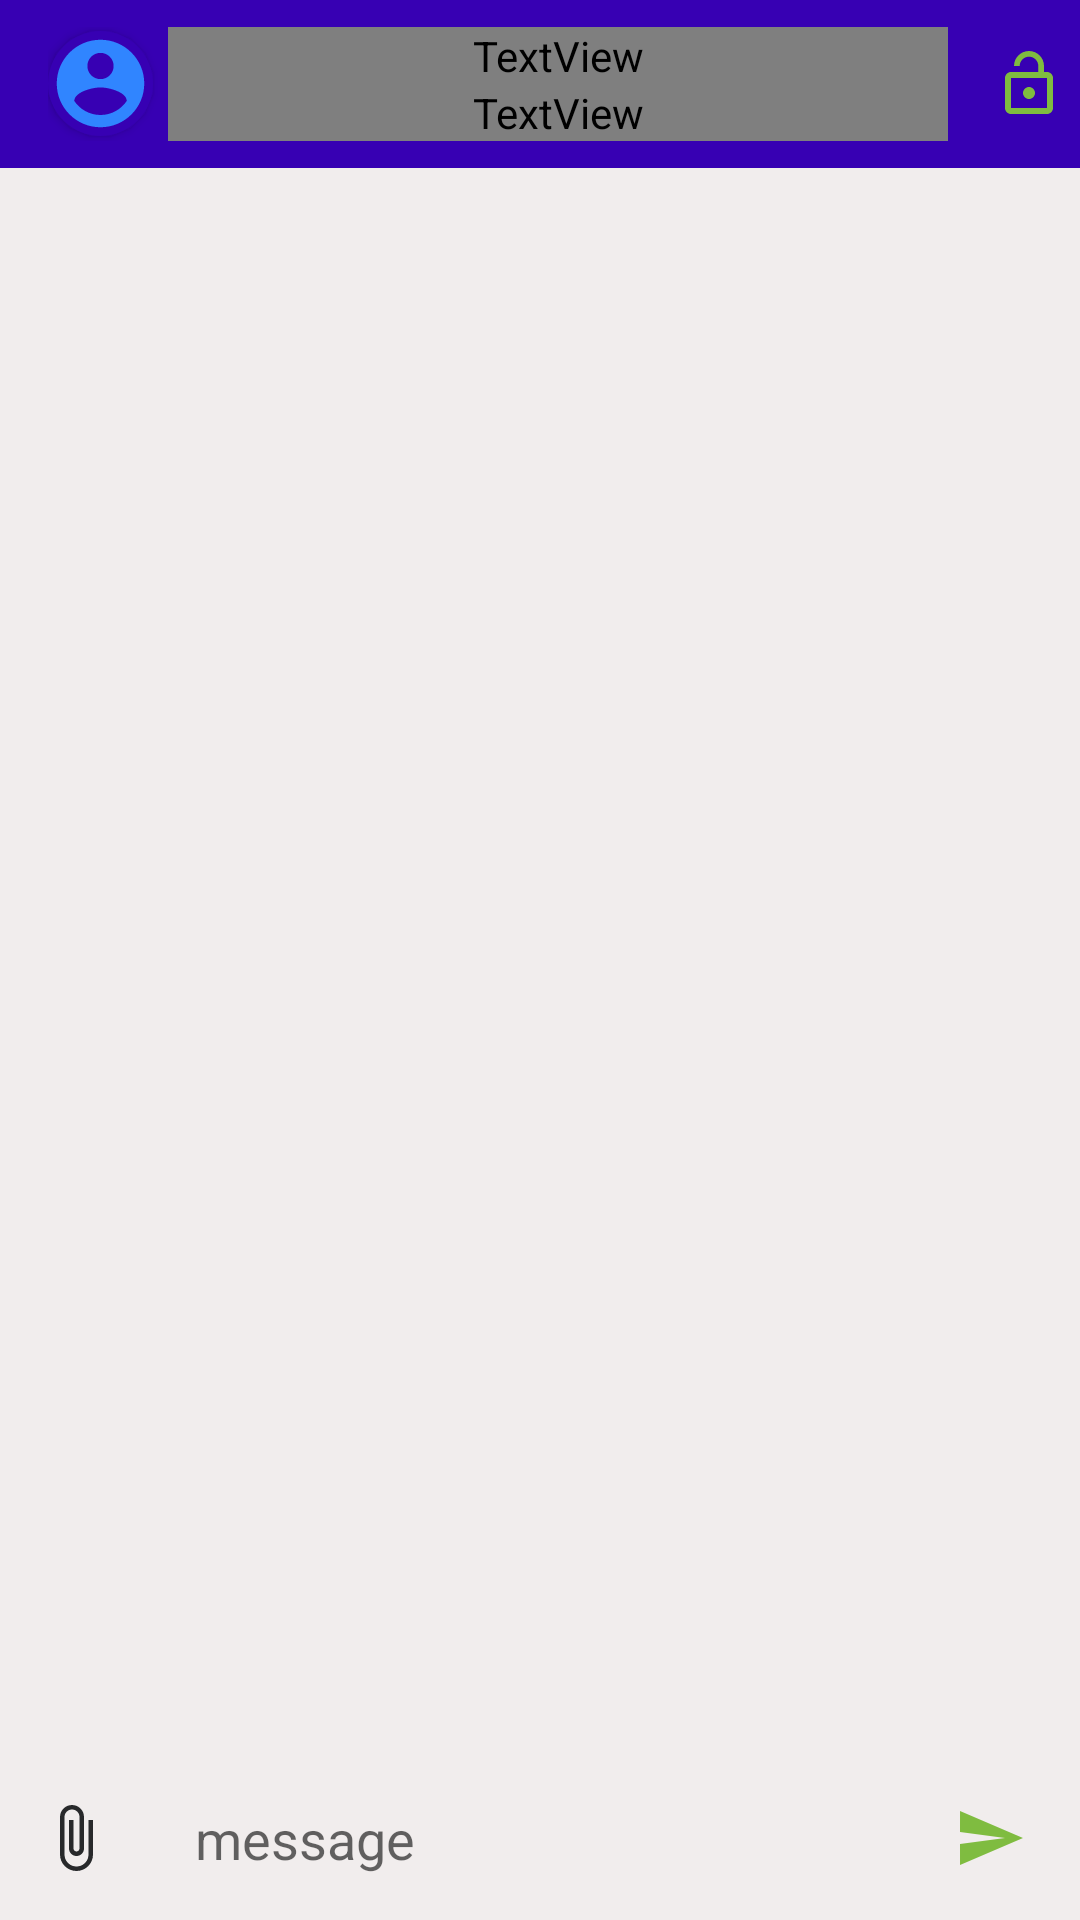

Icon bounding boxes for this 1080x1920 phone screenshot, format (x1, y1, x2, y2):
attach: (60, 1805, 93, 1871)
send: (960, 1811, 1023, 1865)
